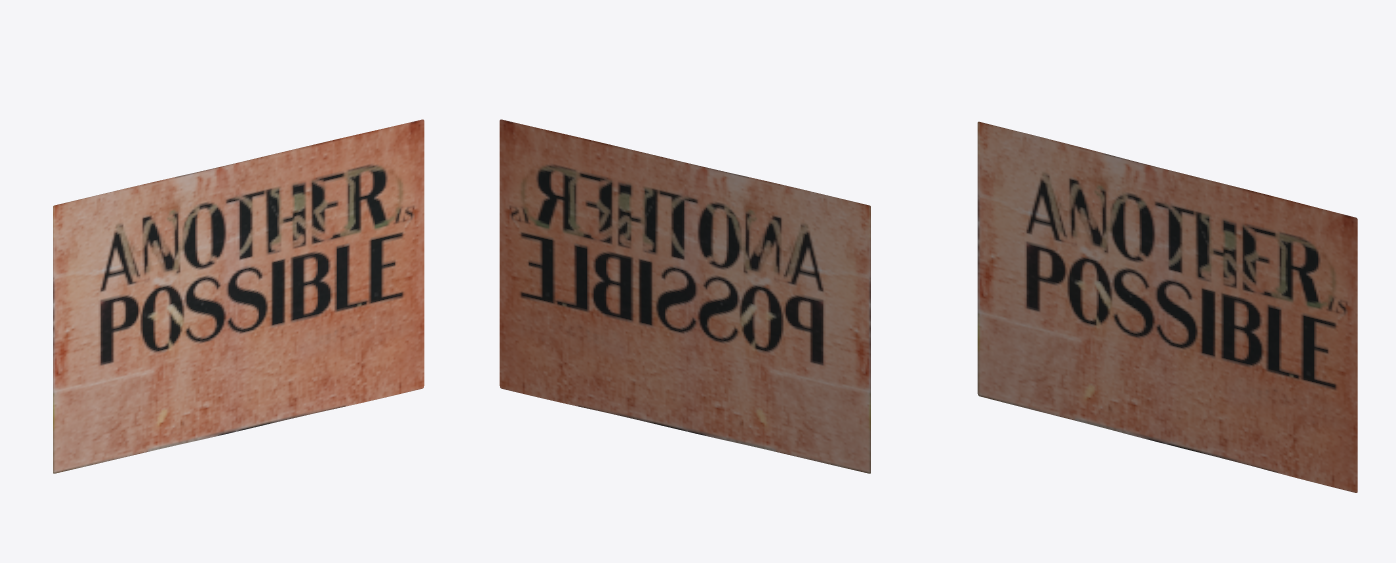
Rendered from Sticker_6.fbx.
3 renders of one model, left to right at view 1: azimuth 30°, elevation 25°; view 2: azimuth 150°, elevation 25°; view 3: azimuth 330°, elevation 25°, orthographic. The views are drawn at different scales.
Visible parts, largest first — view 1: Sticker_6; view 2: Sticker_6; view 3: Sticker_6.
Part boxes in pixels (x1,y1,x2,y2): Sticker_6: [53, 119, 424, 473]; Sticker_6: [499, 119, 870, 473]; Sticker_6: [977, 121, 1357, 492].
Bounding box in the file's own units: 0.4451 × 0.4209 × 1.84e-08.
